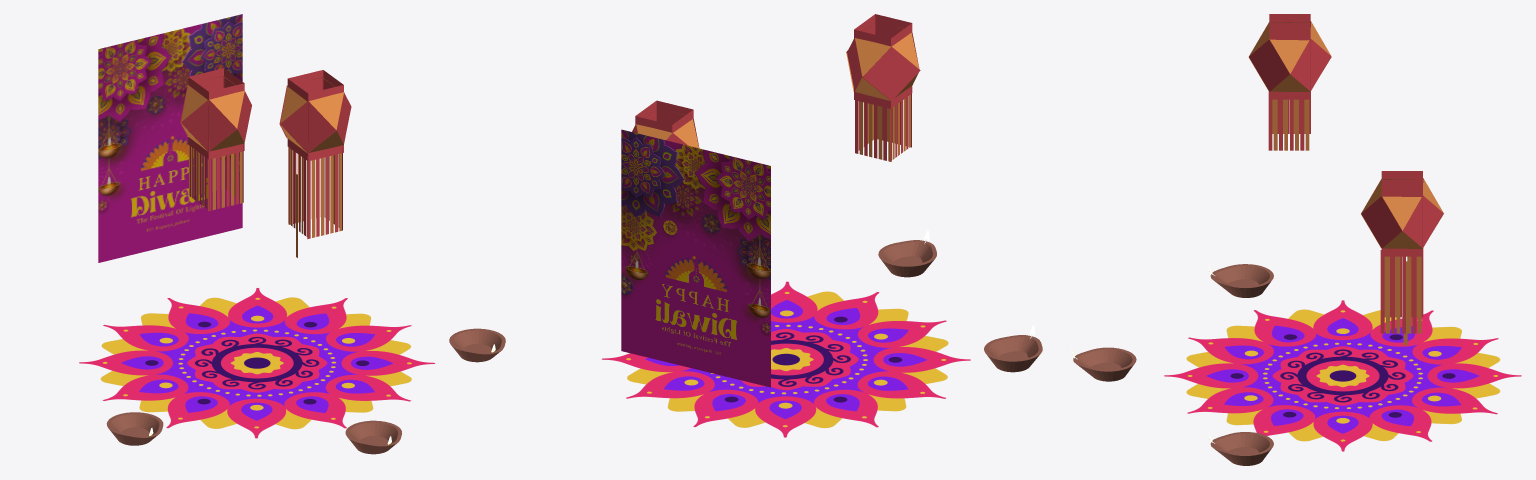
The model's file is poster.glb.
3 views of the same model, side by side, from view 1: azimuth 30°, elevation 25°; view 2: azimuth 150°, elevation 25°; view 3: azimuth 270°, elevation 25° (orthographic). The views are drawn at different scales.
Visible parts, largest first — view 1: Rangoli_92, Pink Colorful Happy Diwali Festival Poster_93, Cube_0, Cube.001_46, Plane.044_47, Plane_1, Cylinder.006_102, Cylinder_96, Cylinder.003_99, Plane.047_50, Plane.002_4; view 2: Pink Colorful Happy Diwali Festival Poster_93, Rangoli_92, Cube_0, Cylinder.006_102, Cylinder.003_99, Plane.005_6, Cube.001_46, Plane.007_8; view 3: Rangoli_92, Cylinder.006_102, Cylinder_96, Cylinder.003_99, Cube_0, Cube.001_46, Plane.001_2, Plane.045_48, Plane.004_5, Plane.048_51, Plane.052_55, Plane.008_9.
Boxes of the visible parts, x1,y1,x2,y2 form: Rangoli_92: (79,288,434,438); Pink Colorful Happy Diwali Festival Poster_93: (98,14,242,262); Cube_0: (188,68,244,159); Cube.001_46: (287,70,343,161); Plane.044_47: (280,101,335,152); Plane_1: (181,99,236,151); Cylinder.006_102: (345,420,401,454); Cylinder_96: (449,328,505,362); Cylinder.003_99: (106,412,163,445); Plane.047_50: (309,92,343,129); Plane.002_4: (209,90,244,128); Pink Colorful Happy Diwali Festival Poster_93: (621,129,770,387); Rangoli_92: (602,281,970,437); Cube_0: (854,14,912,108); Cylinder.006_102: (878,240,936,277); Cylinder.003_99: (984,335,1042,372); Plane.005_6: (863,46,920,100); Cube.001_46: (635,100,693,136); Plane.007_8: (855,38,890,76); Rangoli_92: (1164,300,1521,451); Cylinder.006_102: (1073,347,1136,381); Cylinder_96: (1210,432,1273,465); Cylinder.003_99: (1210,264,1273,297); Cube_0: (1269,14,1310,99); Cube.001_46: (1381,171,1422,256); Plane.001_2: (1249,39,1289,91); Plane.045_48: (1361,196,1402,248); Plane.004_5: (1290,39,1331,90); Plane.048_51: (1403,195,1443,247); Plane.052_55: (1382,196,1421,230); Plane.008_9: (1269,39,1309,73).
Size of the model in its own units: 21.97 by 17.09 by 21.78.
Materials: 7 (2 with a texture image).
